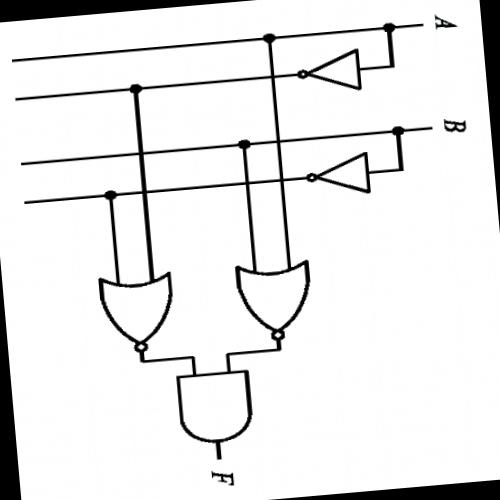and: (158, 359, 269, 454)
nor: (81, 251, 193, 360), (226, 240, 328, 350)
not: (294, 137, 381, 212), (291, 36, 372, 108)
